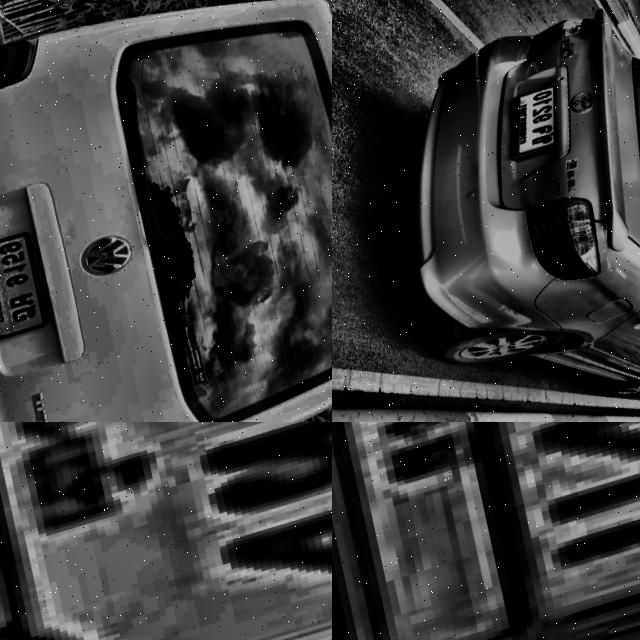license-plate: (0, 422, 332, 640), (332, 422, 640, 640), (0, 229, 53, 351), (496, 82, 568, 170)
